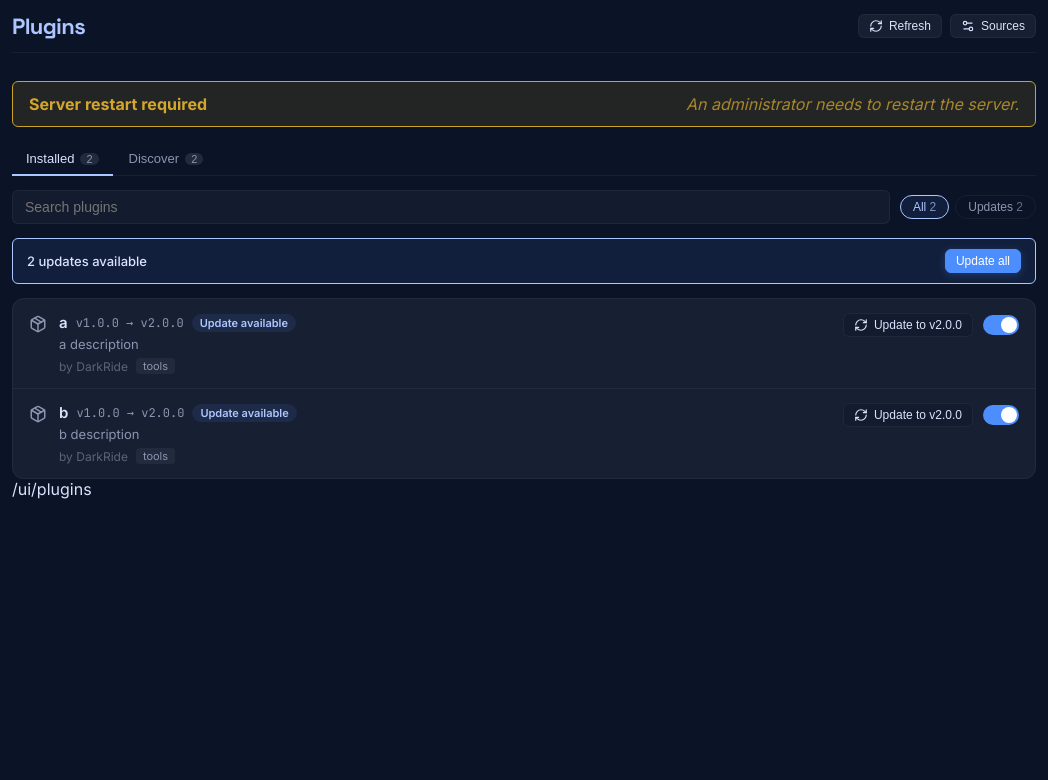
PluginsWorkspace: updates › reports a partial update-all honestly
The image size is (1048, 780).
Click the button "Update all": (983, 261) [945,249,1021,273]
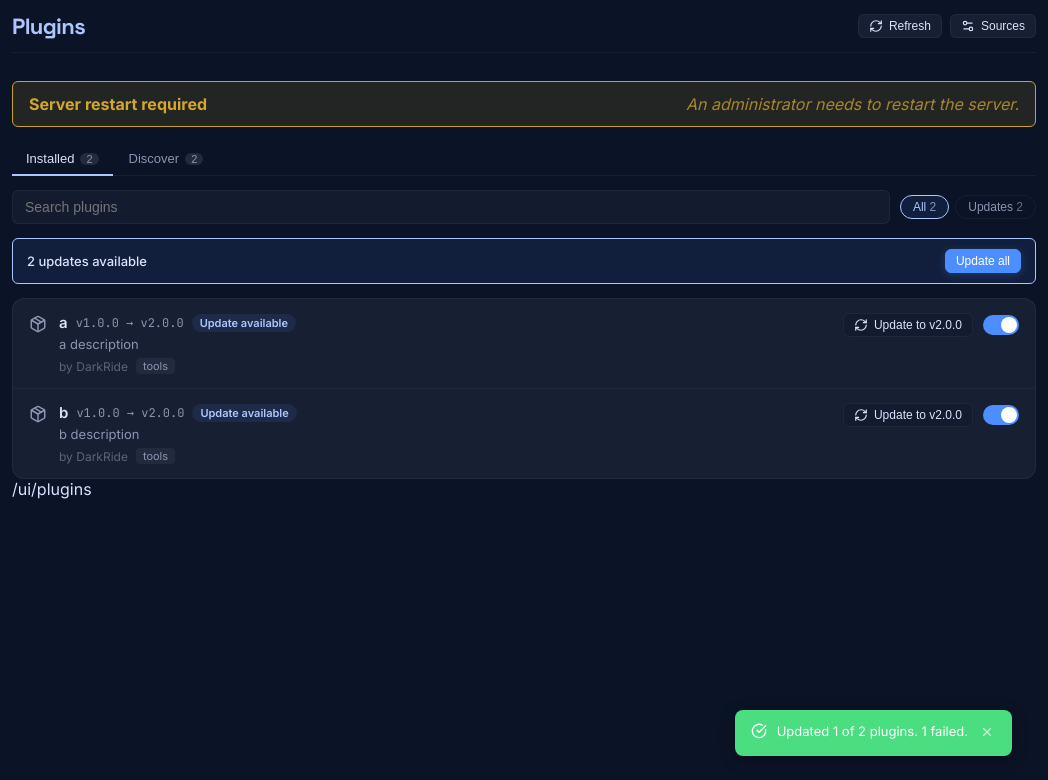
Check: the text "Updated 1 of 2 plugins. 1 failed." is shown, box [777,722,968,740]
